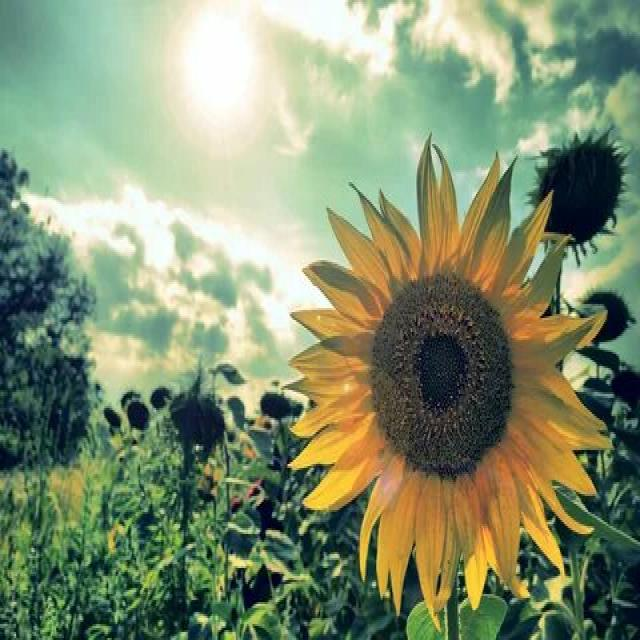sunflower: (280, 138, 617, 612)
